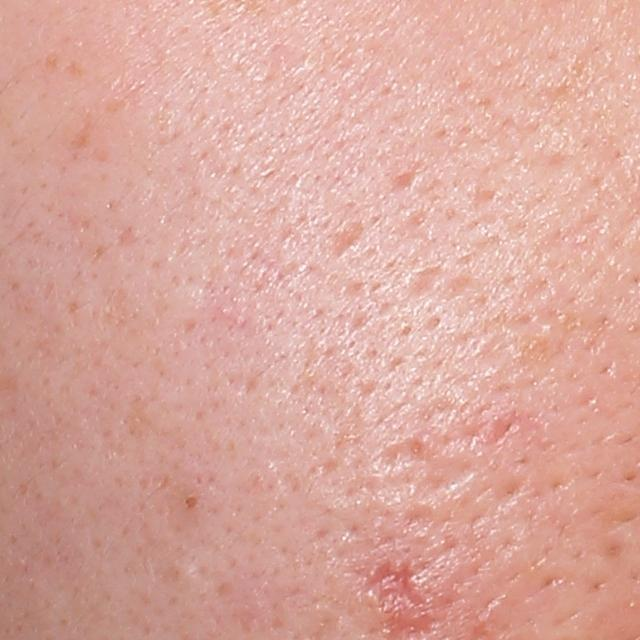atrophic_scar: (378, 435, 482, 508), (324, 214, 366, 265), (402, 262, 440, 300), (387, 164, 418, 194)
comedo: (179, 491, 200, 513)
